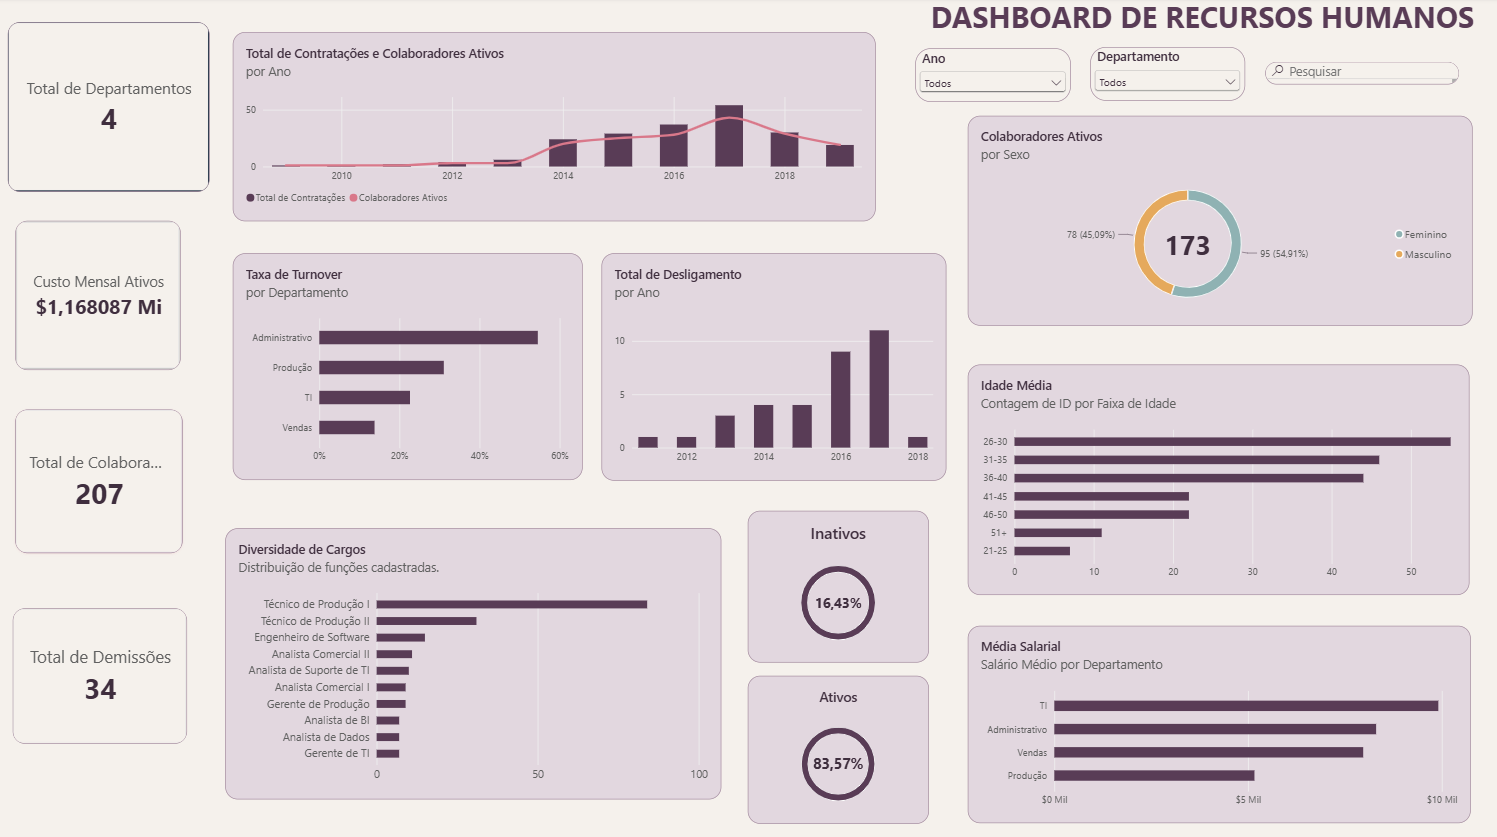

The dashboard page shown, as its layout file describes it:
{"tool":"powerbi","page":{"name":"Dash","canvas":[1920,1080],"ordinal":0},"visuals":[{"type":"cardVisual","fields":{"Data":["integrantes.Total de Colaboradores"]},"box":[113.1,39.8,333,108.9],"z":0},{"type":"cardVisual","fields":{"Data":["integrantes.Total de Departamentos"]},"box":[467,39.8,324.6,108.9],"z":1000},{"type":"cardVisual","title":"Total de Demissão","fields":{"Data":["integrantes.Total de Demissões"]},"box":[814.7,39.8,339.3,108.9],"z":2000},{"type":"clusteredBarChart","fields":{"Category":["integrantes.Departamento"],"Y":["integrantes.Taxa de Turnover"]},"box":[113.1,456.5,464.9,291.1],"z":3000},{"type":"donutChart","fields":{"Category":["integrantes.Sexo"],"Y":["integrantes.Colaboradores Ativos"]},"box":[1193.7,152.9,646.6,268.9],"z":4000},{"type":"columnChart","title":"Idade Média","fields":{"Category":["integrantes.Faixa de Idade"],"Y":["CountNonNull(integrantes.ID)"]},"box":[114.3,788.6,611.4,268.6],"z":5000},{"type":"barChart","title":"Média Salarial","fields":{"Category":["integrantes.Departamento"],"Y":["integrantes.Salário Médio"]},"box":[747.6,804.2,649.2,253.4],"z":6000},{"type":"clusteredBarChart","title":"Diversidade de Cargos","fields":{"Category":["integrantes.Cargo"],"Y":["CountNonNull(integrantes.ID)"]},"box":[1130.9,444,727.1,345.7],"z":7000},{"type":"columnChart","title":"Total de Desligamento","fields":{"Category":["Calendario.Date.Variação.Hierarquia de datas.Ano"],"Y":["integrantes.Total de Demissões"]},"box":[630.4,456.5,441.9,291.1],"z":8000},{"type":"lineStackedColumnComboChart","fields":{"Category":["Calendario.Ano"],"Y":["integrantes.Total de Contratações"],"Y2":["integrantes.Colaboradores Ativos"]},"box":[113.1,178,1019.9,242.9],"z":9000},{"type":"donutChart","title":" Ativos ","fields":{"Y":["integrantes.% Ativos"]},"box":[1422,835.6,224.1,205.2],"z":10000},{"type":"slicer","fields":{"Values":["integrantes.Departamento"]},"box":[1397.2,64,198,69],"z":12000},{"type":"slicer","fields":{"Values":["integrantes.Cargo","integrantes.Sexo"]},"box":[1621.3,83.2,248.1,28.8],"z":13000},{"type":"slicer","fields":{"Values":["Calendario.Ano"]},"box":[1173.2,65.6,199,69.1],"z":14000},{"type":"textbox","box":[984.3,0,904.7,64.9],"z":14001},{"type":"donutChart","title":"Inativos","fields":{"Y":["integrantes.% Inativos"]},"box":[1664.9,835.6,224.1,207.3],"z":14002}]}

Visuals, with their boxes in screenshot pixels (x1, y1, x2, y2), scaled from the page's 1920x1080 canvas onto the 1497x837 screenshot:
cardVisual - integrantes.Total de Colaboradores: x1=88, y1=31, x2=348, y2=115
cardVisual - integrantes.Total de Departamentos: x1=364, y1=31, x2=617, y2=115
"Total de Demissão" cardVisual: x1=635, y1=31, x2=900, y2=115
clusteredBarChart - integrantes.Departamento x integrantes.Taxa de Turnover: x1=88, y1=354, x2=451, y2=579
donutChart - integrantes.Sexo x integrantes.Colaboradores Ativos: x1=931, y1=118, x2=1435, y2=327
"Idade Média" columnChart: x1=89, y1=611, x2=566, y2=819
"Média Salarial" barChart: x1=583, y1=623, x2=1089, y2=820
"Diversidade de Cargos" clusteredBarChart: x1=882, y1=344, x2=1449, y2=612
"Total de Desligamento" columnChart: x1=492, y1=354, x2=836, y2=579
lineStackedColumnComboChart - Calendario.Ano x integrantes.Total de Contratações: x1=88, y1=138, x2=883, y2=326
" Ativos " donutChart: x1=1109, y1=648, x2=1283, y2=807
slicer - integrantes.Departamento: x1=1089, y1=50, x2=1244, y2=103
slicer - integrantes.Cargo x integrantes.Sexo: x1=1264, y1=64, x2=1458, y2=87
slicer - Calendario.Ano: x1=915, y1=51, x2=1070, y2=104
textbox: x1=767, y1=0, x2=1473, y2=50
"Inativos" donutChart: x1=1298, y1=648, x2=1473, y2=808
